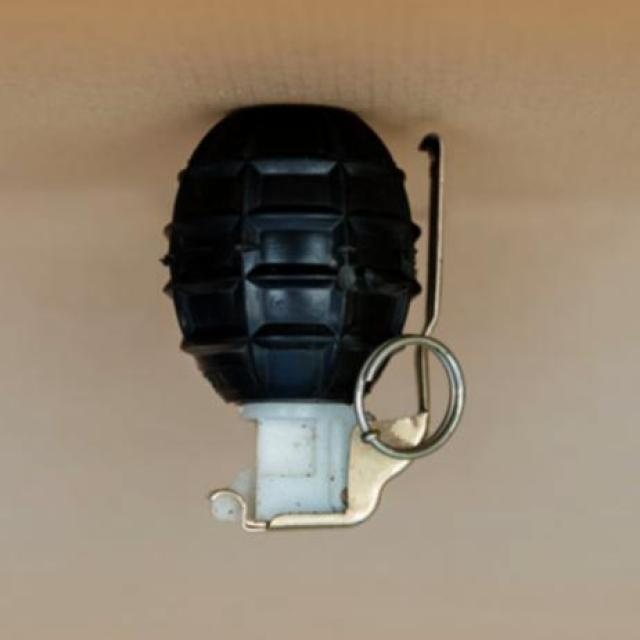grenade: (159, 106, 465, 533)
